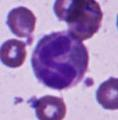N: (31, 30, 90, 91)
